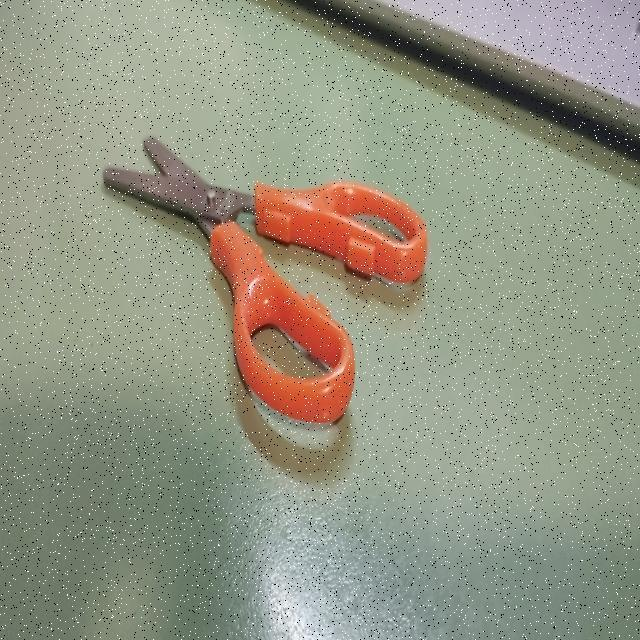scissors: (98, 124, 433, 434)
